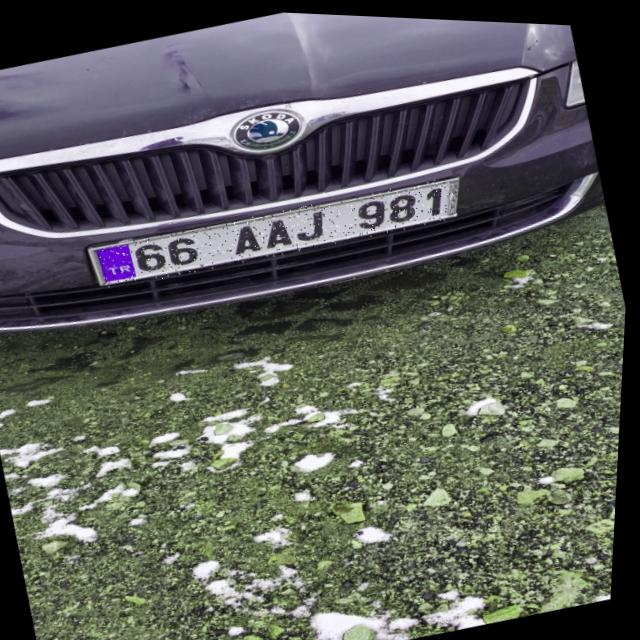license_plate: (94, 160, 462, 301)
